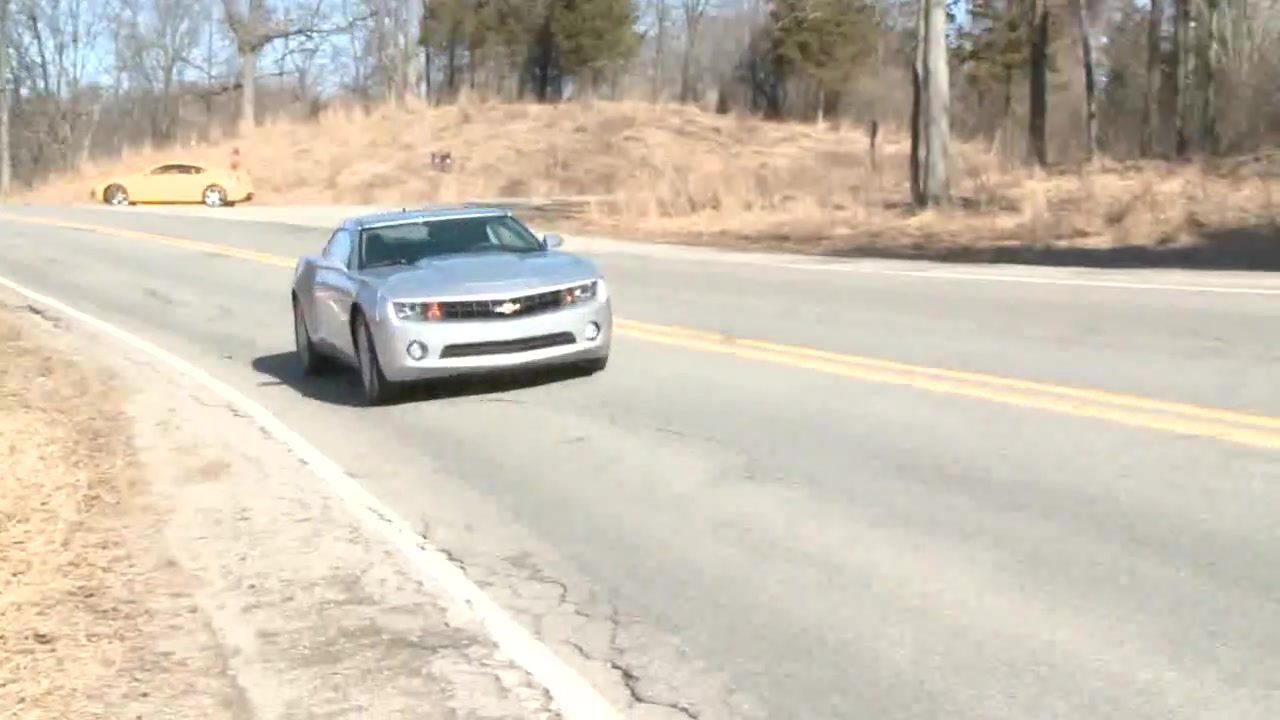car: (291, 211, 619, 405)
